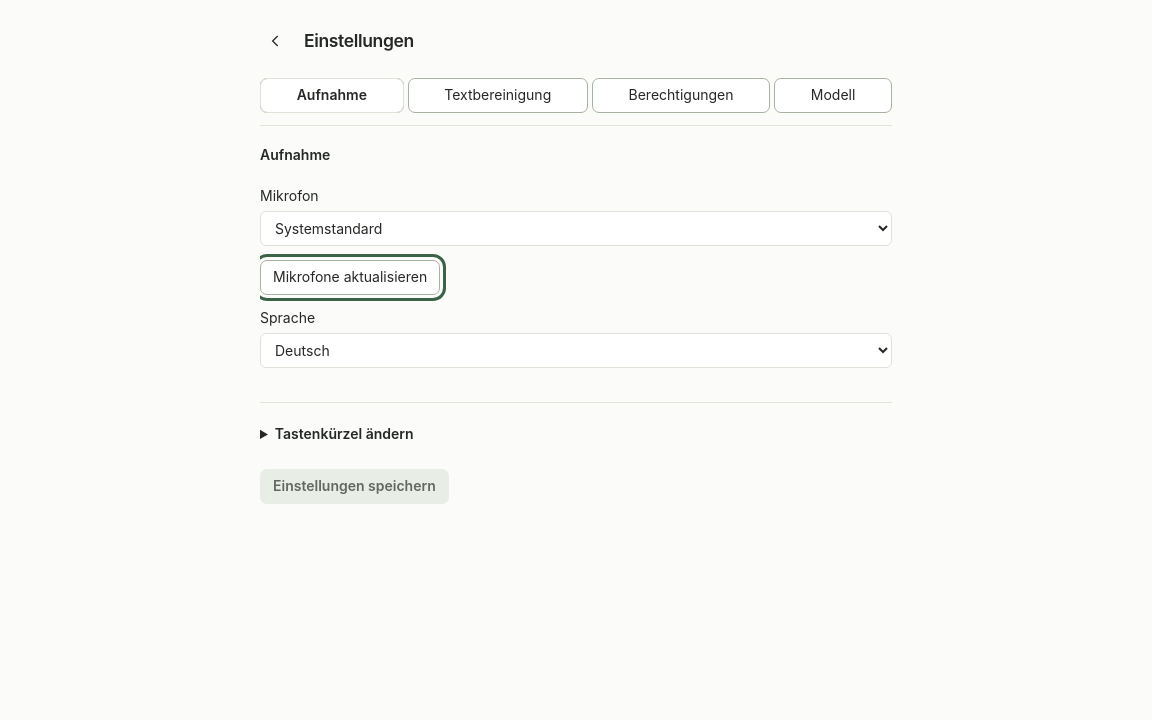
Test: native settings requests survive initial delivery and only reopen for a higher counter
The image size is (1152, 720).
Expected: the element "Einstellungen" is shown, 236,0 -> 916,719
Expected: the button "Aufnehmen" is not shown
Click the button named "Zurück zum Diktat" at (276, 41), box 260,24 -> 292,58
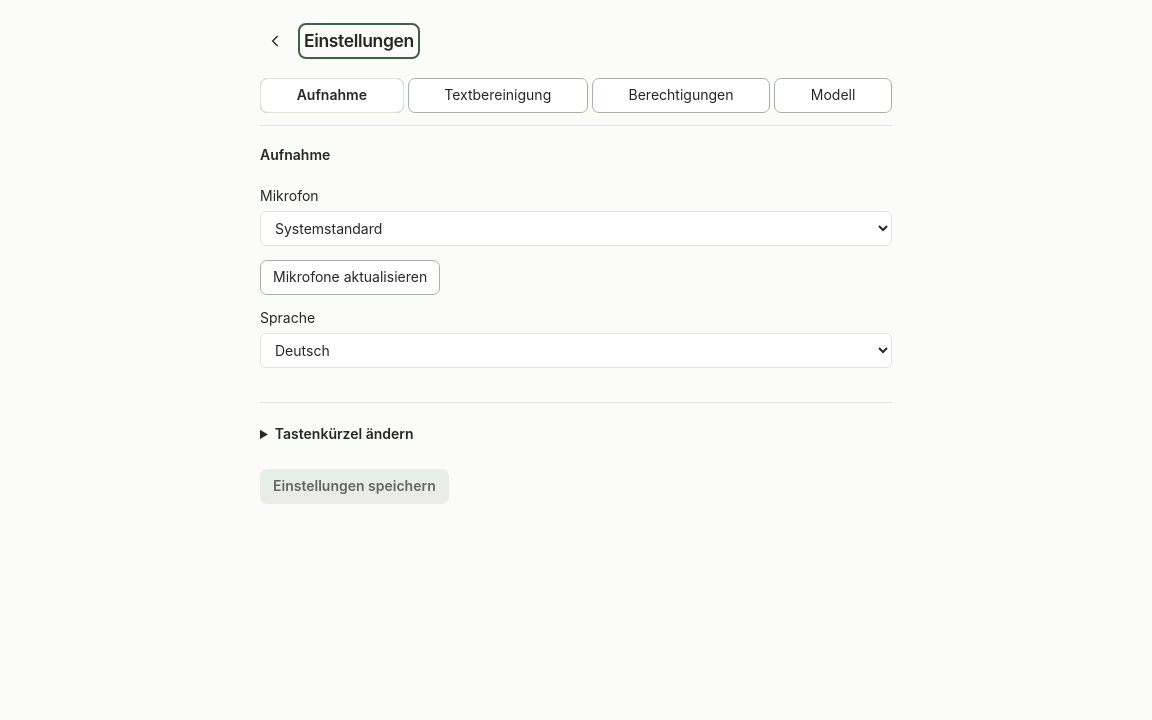
Expected: the element "Einstellungen" is shown, 236,0 -> 916,719
Click the button named "Zurück zum Diktat" at (276, 41), box 260,24 -> 292,58
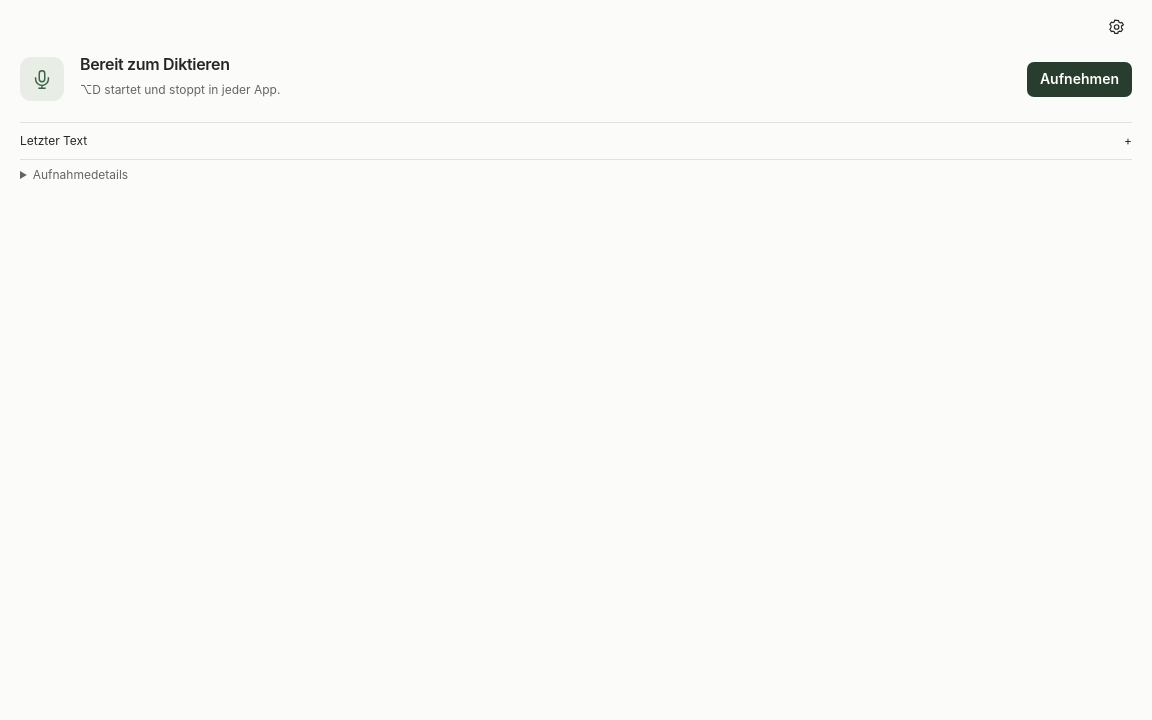
Expected: the heading "Einstellungen" is gone
